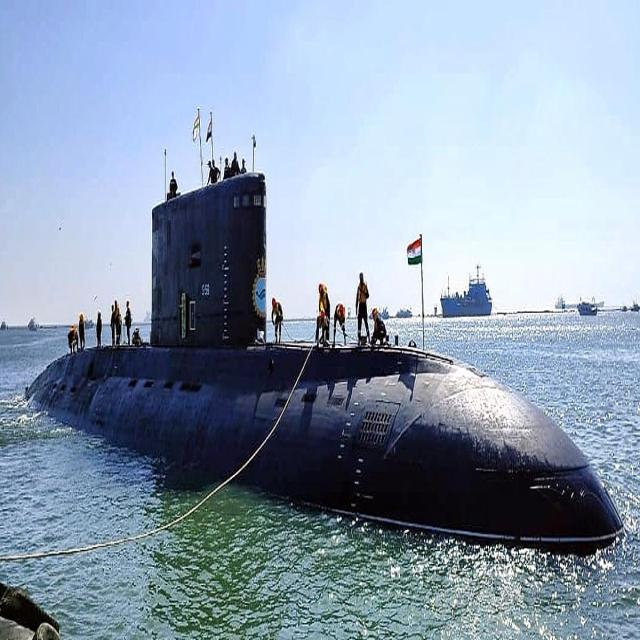Submarine-Sindhughosh-Class-IND: (28, 101, 627, 549)
